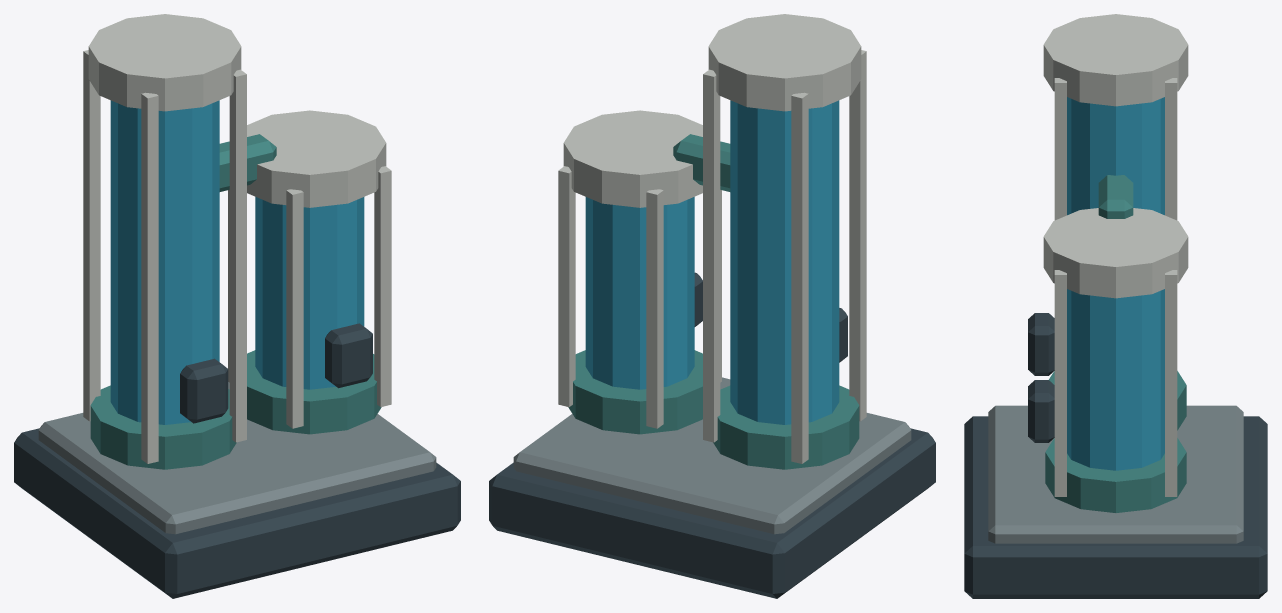
File: phw_tank_cascade.glb
The picture shows the model from 3 angles, left to right: view 1: azimuth 30°, elevation 25°; view 2: azimuth 150°, elevation 25°; view 3: azimuth 270°, elevation 25°; orthographic projection. The views are drawn at different scales.
Parts seen in each view (by area): view 1: body, water_committed, water_excess, overflow_spout; view 2: body, water_committed, water_excess, overflow_spout; view 3: body, water_excess, water_committed, overflow_spout.
Part boxes in pixels (x1,y1,x2,y2): body: [14, 14, 460, 598]; water_committed: [110, 100, 219, 424]; water_excess: [255, 197, 364, 389]; overflow_spout: [219, 134, 276, 191]; body: [489, 14, 935, 598]; water_committed: [730, 100, 839, 424]; water_excess: [585, 197, 694, 389]; overflow_spout: [673, 134, 730, 191]; body: [964, 14, 1267, 598]; water_excess: [1067, 289, 1164, 470]; water_committed: [1067, 97, 1164, 215]; overflow_spout: [1098, 175, 1133, 218].
Size of the model in its own units: 0.94 by 1.46 by 0.88.
